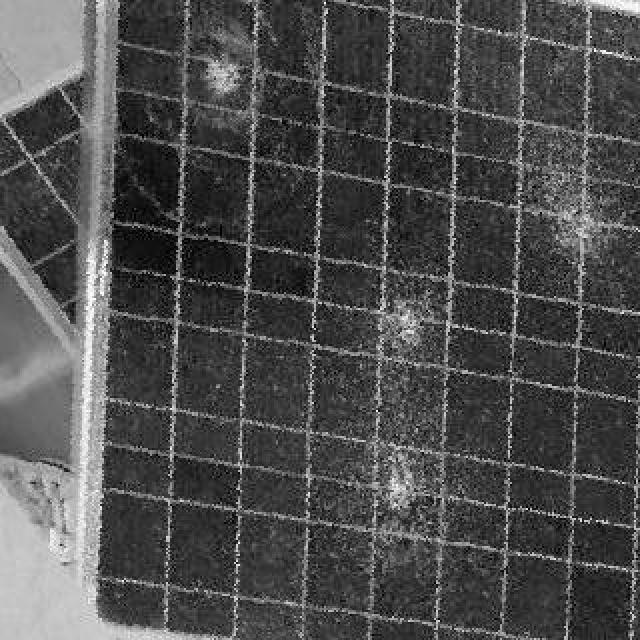Physical-damage: (182, 40, 256, 126), (370, 446, 435, 538), (546, 182, 614, 256), (374, 292, 440, 357)
